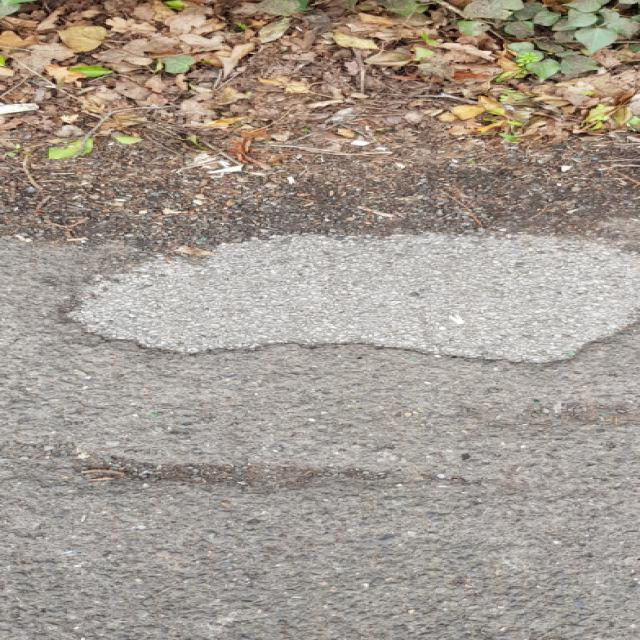pothole: (46, 223, 638, 371)
